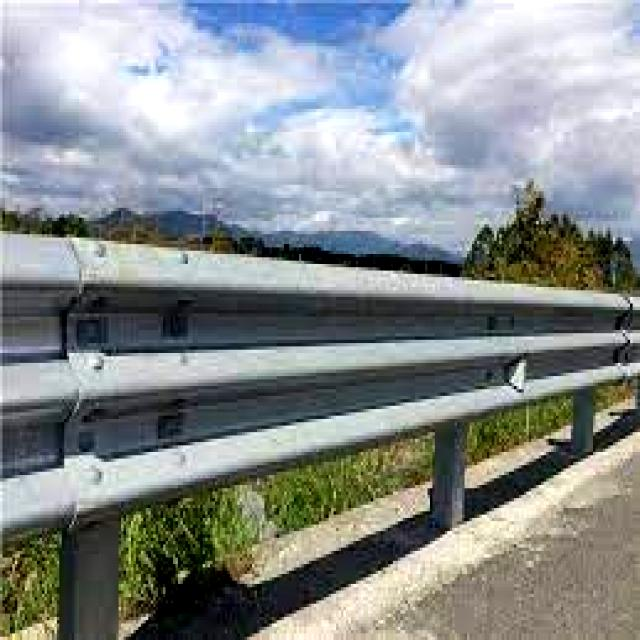Guard rail: (0, 234, 640, 532)
